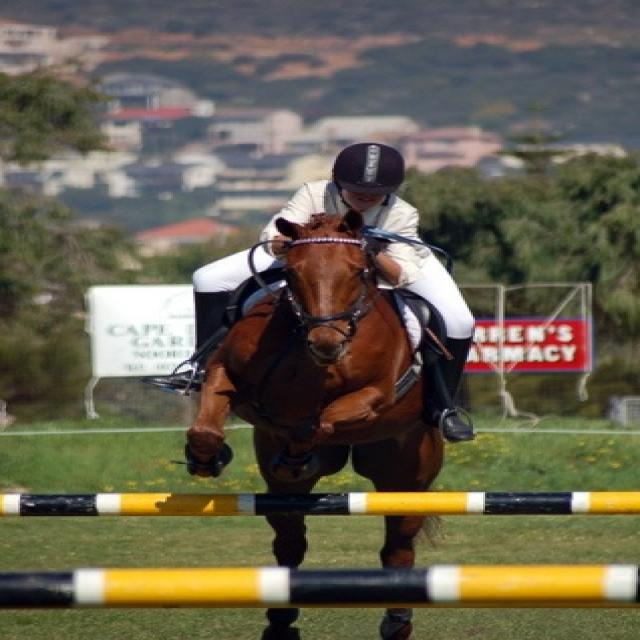horse: (185, 213, 443, 635)
